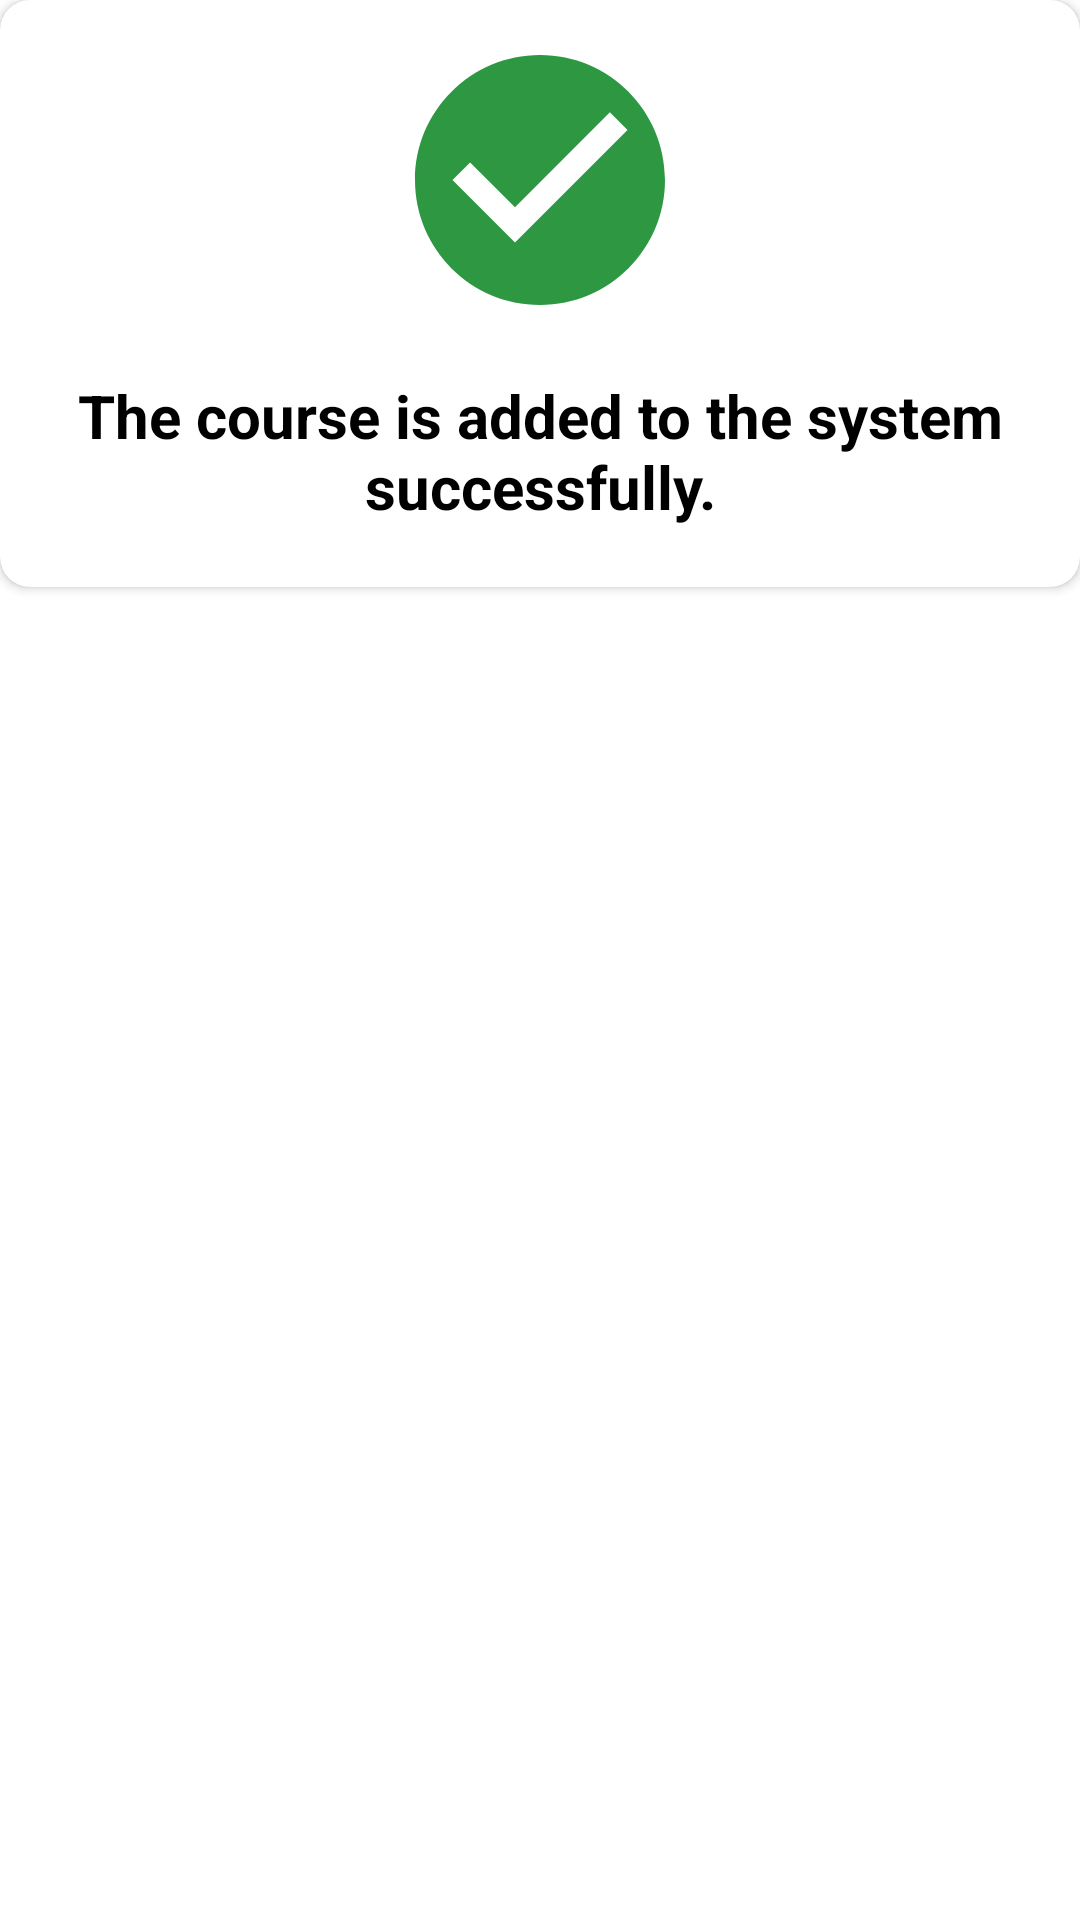

Icon bounding boxes for this 1080x1920 phone screenshot, format region(x1, y1, x2, y2):
check circle: region(415, 55, 665, 305)
